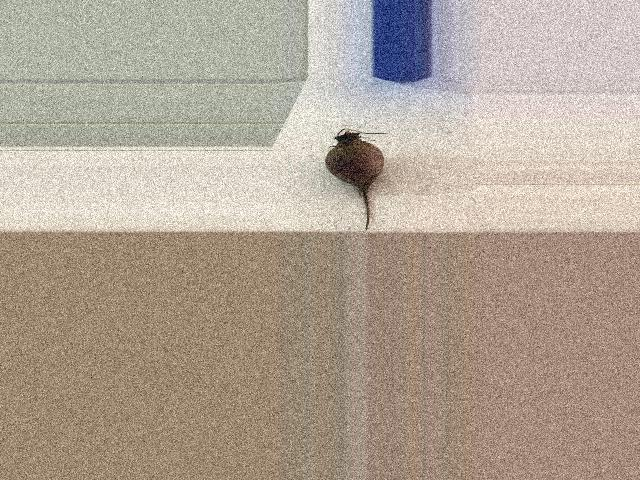beet: (326, 128, 388, 230)
